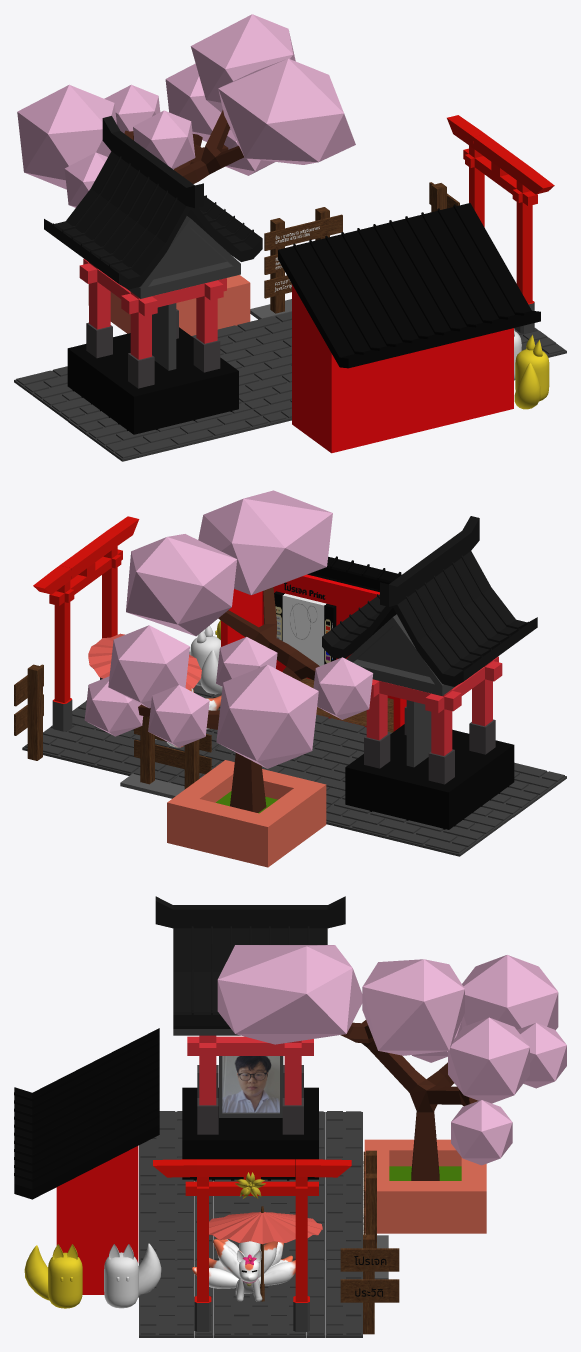
File: fox_80.glb
3 renders of one model, top to bottom at view 1: azimuth 30°, elevation 25°; view 2: azimuth 150°, elevation 25°; view 3: azimuth 270°, elevation 25°, orthographic. The views are drawn at different scales.
Visible parts, largest first — view 1: Cube.001, Plane.005, Cube.011, Cube.019, Icosphere, Icosphere.005, Cube.013, Icosphere.001, floor2.002, Cube.017, floor.001, Cube.023 (+14 smaller); view 2: Cube.011, Cube.019, Cube.023, Icosphere, Icosphere.001, Icosphere.005, Cube.013, floor.002, Icosphere.003, Plane.005, Cube.024, floor (+19 smaller); view 3: Cube.001, Icosphere, Cube.011, Cube.019, Cube.013, Cube.023, Icosphere.001, Plane.005, floor, floor2, Icosphere.005, Icosphere.003 (+20 smaller).
Boxes of the visible parts, bbox=[...] form: Cube.001: bbox=[278, 203, 540, 368]; Plane.005: bbox=[292, 284, 513, 453]; Cube.011: bbox=[67, 259, 238, 434]; Cube.019: bbox=[44, 116, 262, 289]; Icosphere: bbox=[218, 58, 355, 164]; Icosphere.005: bbox=[17, 84, 116, 189]; Cube.013: bbox=[447, 115, 554, 333]; Icosphere.001: bbox=[190, 14, 295, 112]; floor2.002: bbox=[68, 400, 269, 461]; Cube.017: bbox=[126, 216, 240, 298]; floor.001: bbox=[191, 312, 291, 377]; Cube.023: bbox=[88, 275, 250, 335]; Cube.011: bbox=[345, 656, 514, 829]; Cube.019: bbox=[322, 516, 537, 686]; Cube.023: bbox=[167, 760, 326, 867]; Icosphere: bbox=[198, 490, 332, 595]; Icosphere.001: bbox=[126, 534, 237, 636]; Icosphere.005: bbox=[216, 664, 318, 768]; Cube.013: bbox=[33, 516, 139, 731]; floor.002: bbox=[326, 796, 513, 856]; Icosphere.003: bbox=[108, 625, 189, 708]; Plane.005: bbox=[221, 574, 406, 732]; Cube.024: bbox=[138, 587, 319, 812]; floor: bbox=[22, 708, 220, 782]; Cube.001: bbox=[14, 1028, 159, 1199]; Icosphere: bbox=[217, 945, 362, 1044]; Cube.011: bbox=[182, 1035, 318, 1180]; Cube.019: bbox=[155, 896, 345, 1028]; Cube.013: bbox=[153, 1159, 351, 1331]; Cube.023: bbox=[364, 1139, 486, 1233]; Icosphere.001: bbox=[362, 959, 464, 1055]; Plane.005: bbox=[56, 1146, 138, 1294]; floor: bbox=[251, 1260, 362, 1337]; floor2: bbox=[139, 1260, 250, 1337]; Icosphere.005: bbox=[462, 955, 558, 1030]; Icosphere.003: bbox=[448, 1017, 529, 1103].
Bounding box in the file's own units: 14.6 × 9.03 × 15.25.
44 materials, 16 textured.
